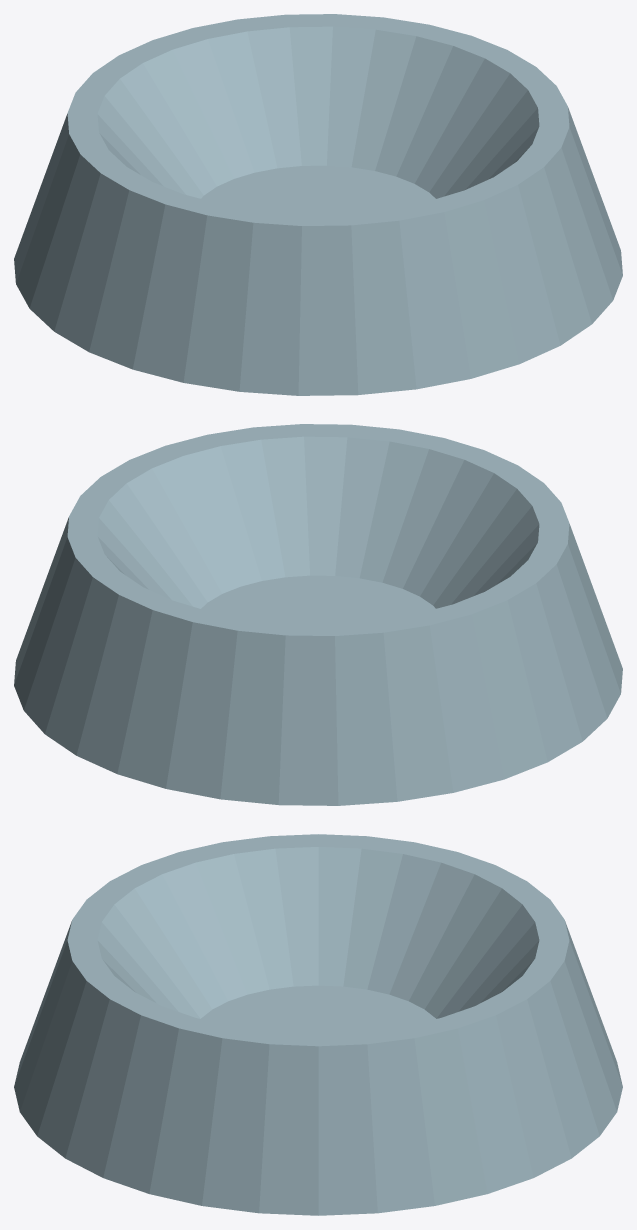
Rendered from catfoodbowl.fbx.
The picture shows the model from 3 angles, top to bottom: view 1: azimuth 30°, elevation 25°; view 2: azimuth 150°, elevation 25°; view 3: azimuth 270°, elevation 25°; orthographic projection.
Parts seen in each view (by area): view 1: Circle; view 2: Circle; view 3: Circle.
Boxes of the visible parts, x1,y1,x2,y2 form: Circle: [14, 14, 622, 395]; Circle: [14, 424, 622, 805]; Circle: [14, 834, 622, 1215].
Size of the model in its own units: 200 by 53.24 by 200.
1 material, 1 textured.
